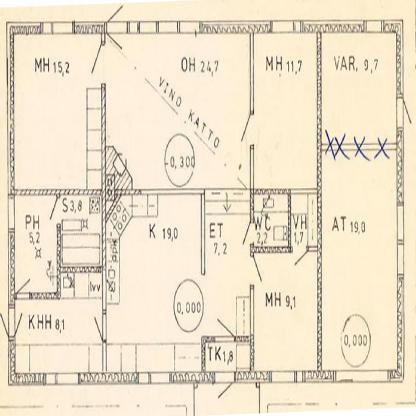door: (106, 5, 126, 52), (213, 366, 237, 404), (89, 39, 108, 87), (0, 308, 26, 342), (392, 92, 413, 133), (212, 314, 237, 344), (241, 107, 258, 146), (48, 193, 64, 228), (248, 252, 262, 290), (12, 278, 36, 300), (92, 310, 108, 342), (242, 220, 257, 250)
window: (127, 16, 204, 38), (394, 198, 406, 286), (266, 15, 306, 38), (40, 17, 79, 40), (133, 367, 172, 390), (42, 370, 82, 391), (266, 368, 311, 386), (361, 17, 388, 41), (5, 190, 17, 235)
